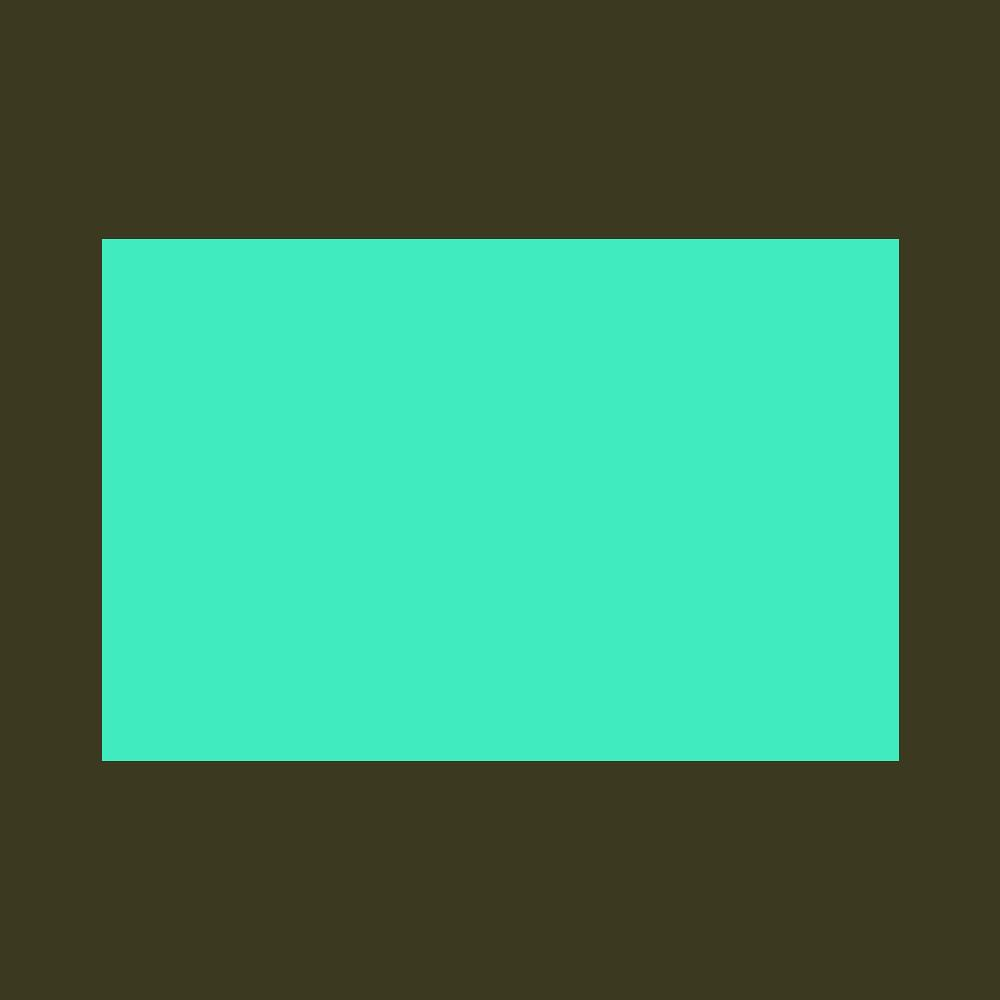cyan_zone: (97, 229, 904, 767)
